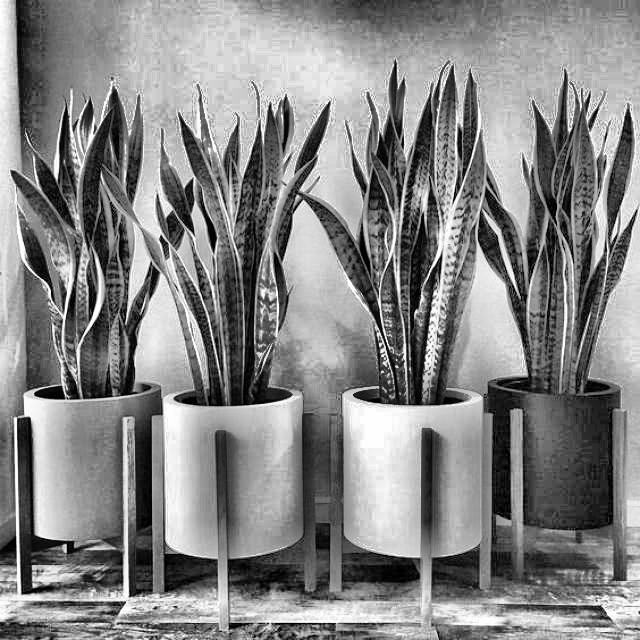plants: (100, 76, 332, 406), (281, 63, 494, 403), (10, 81, 206, 397), (451, 65, 640, 388)
